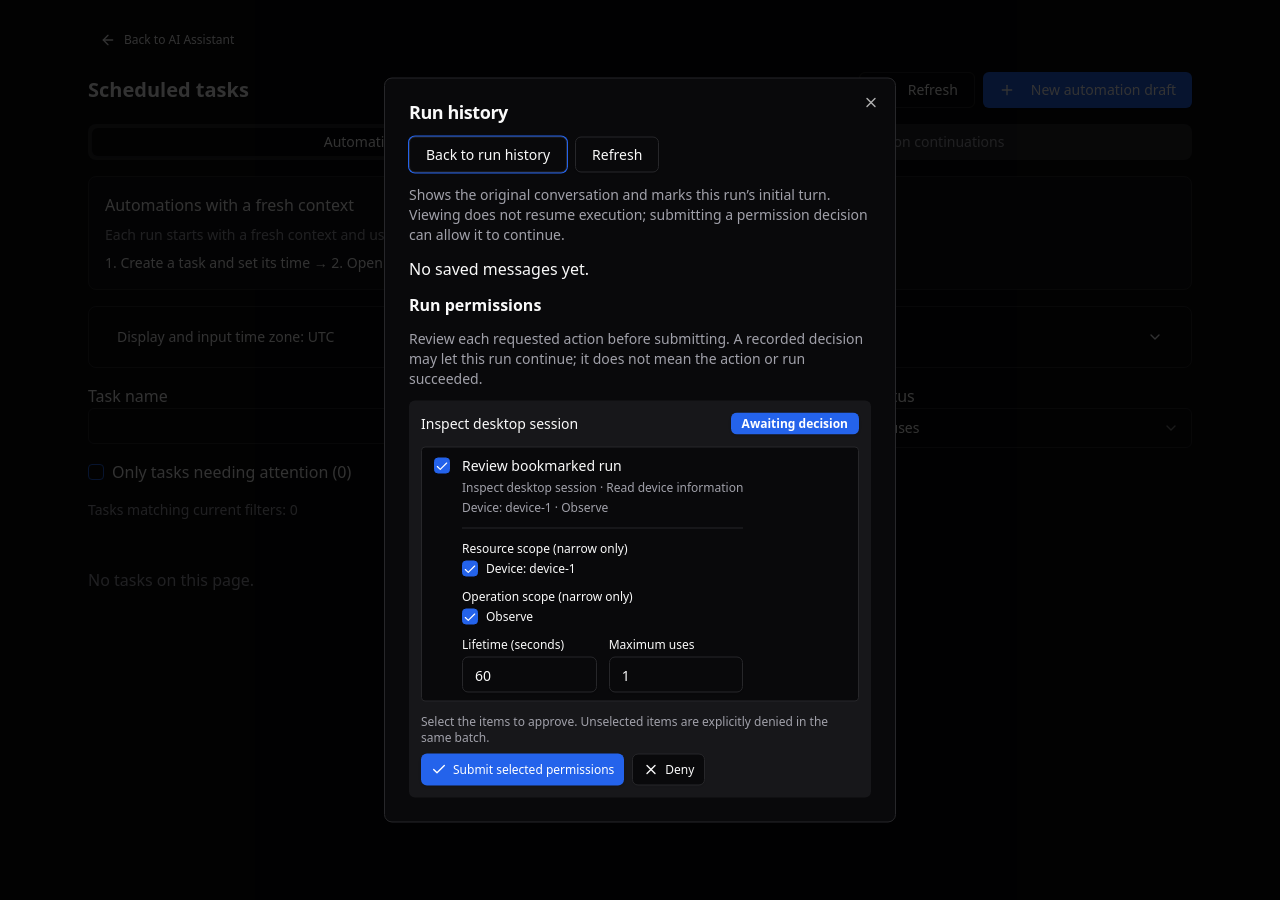
Test: scheduled task management page › routes an off-page bookmarked approval through its current device connection
Expected: the button "Submit selected permissions" is enabled, [421,754,624,786]
What coordinates should you click on to do the following:
click the button "Deny"
I would click on:
 (669, 770)
Its box is [632,754,705,786].
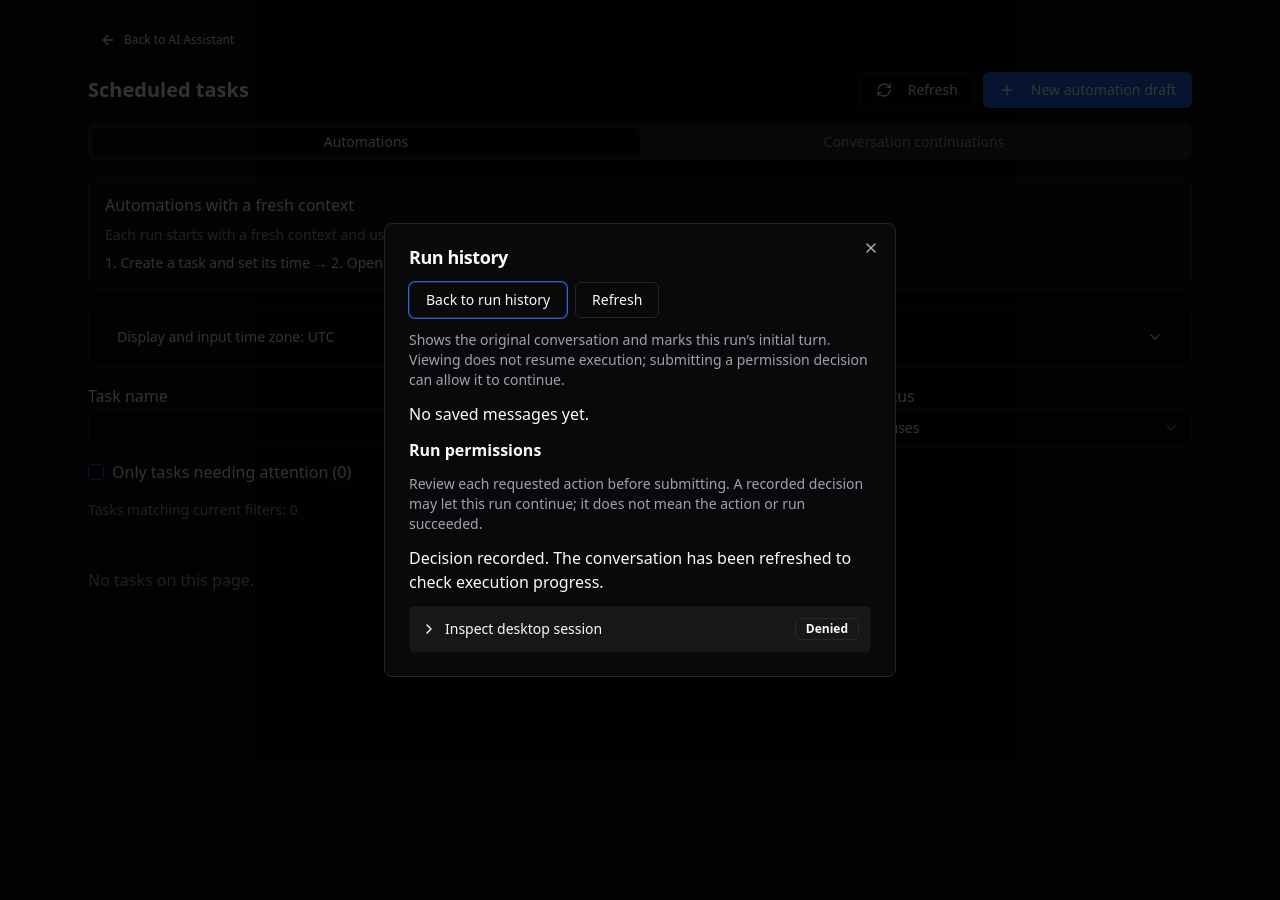
Expected: the button "Submit selected permissions" is gone
